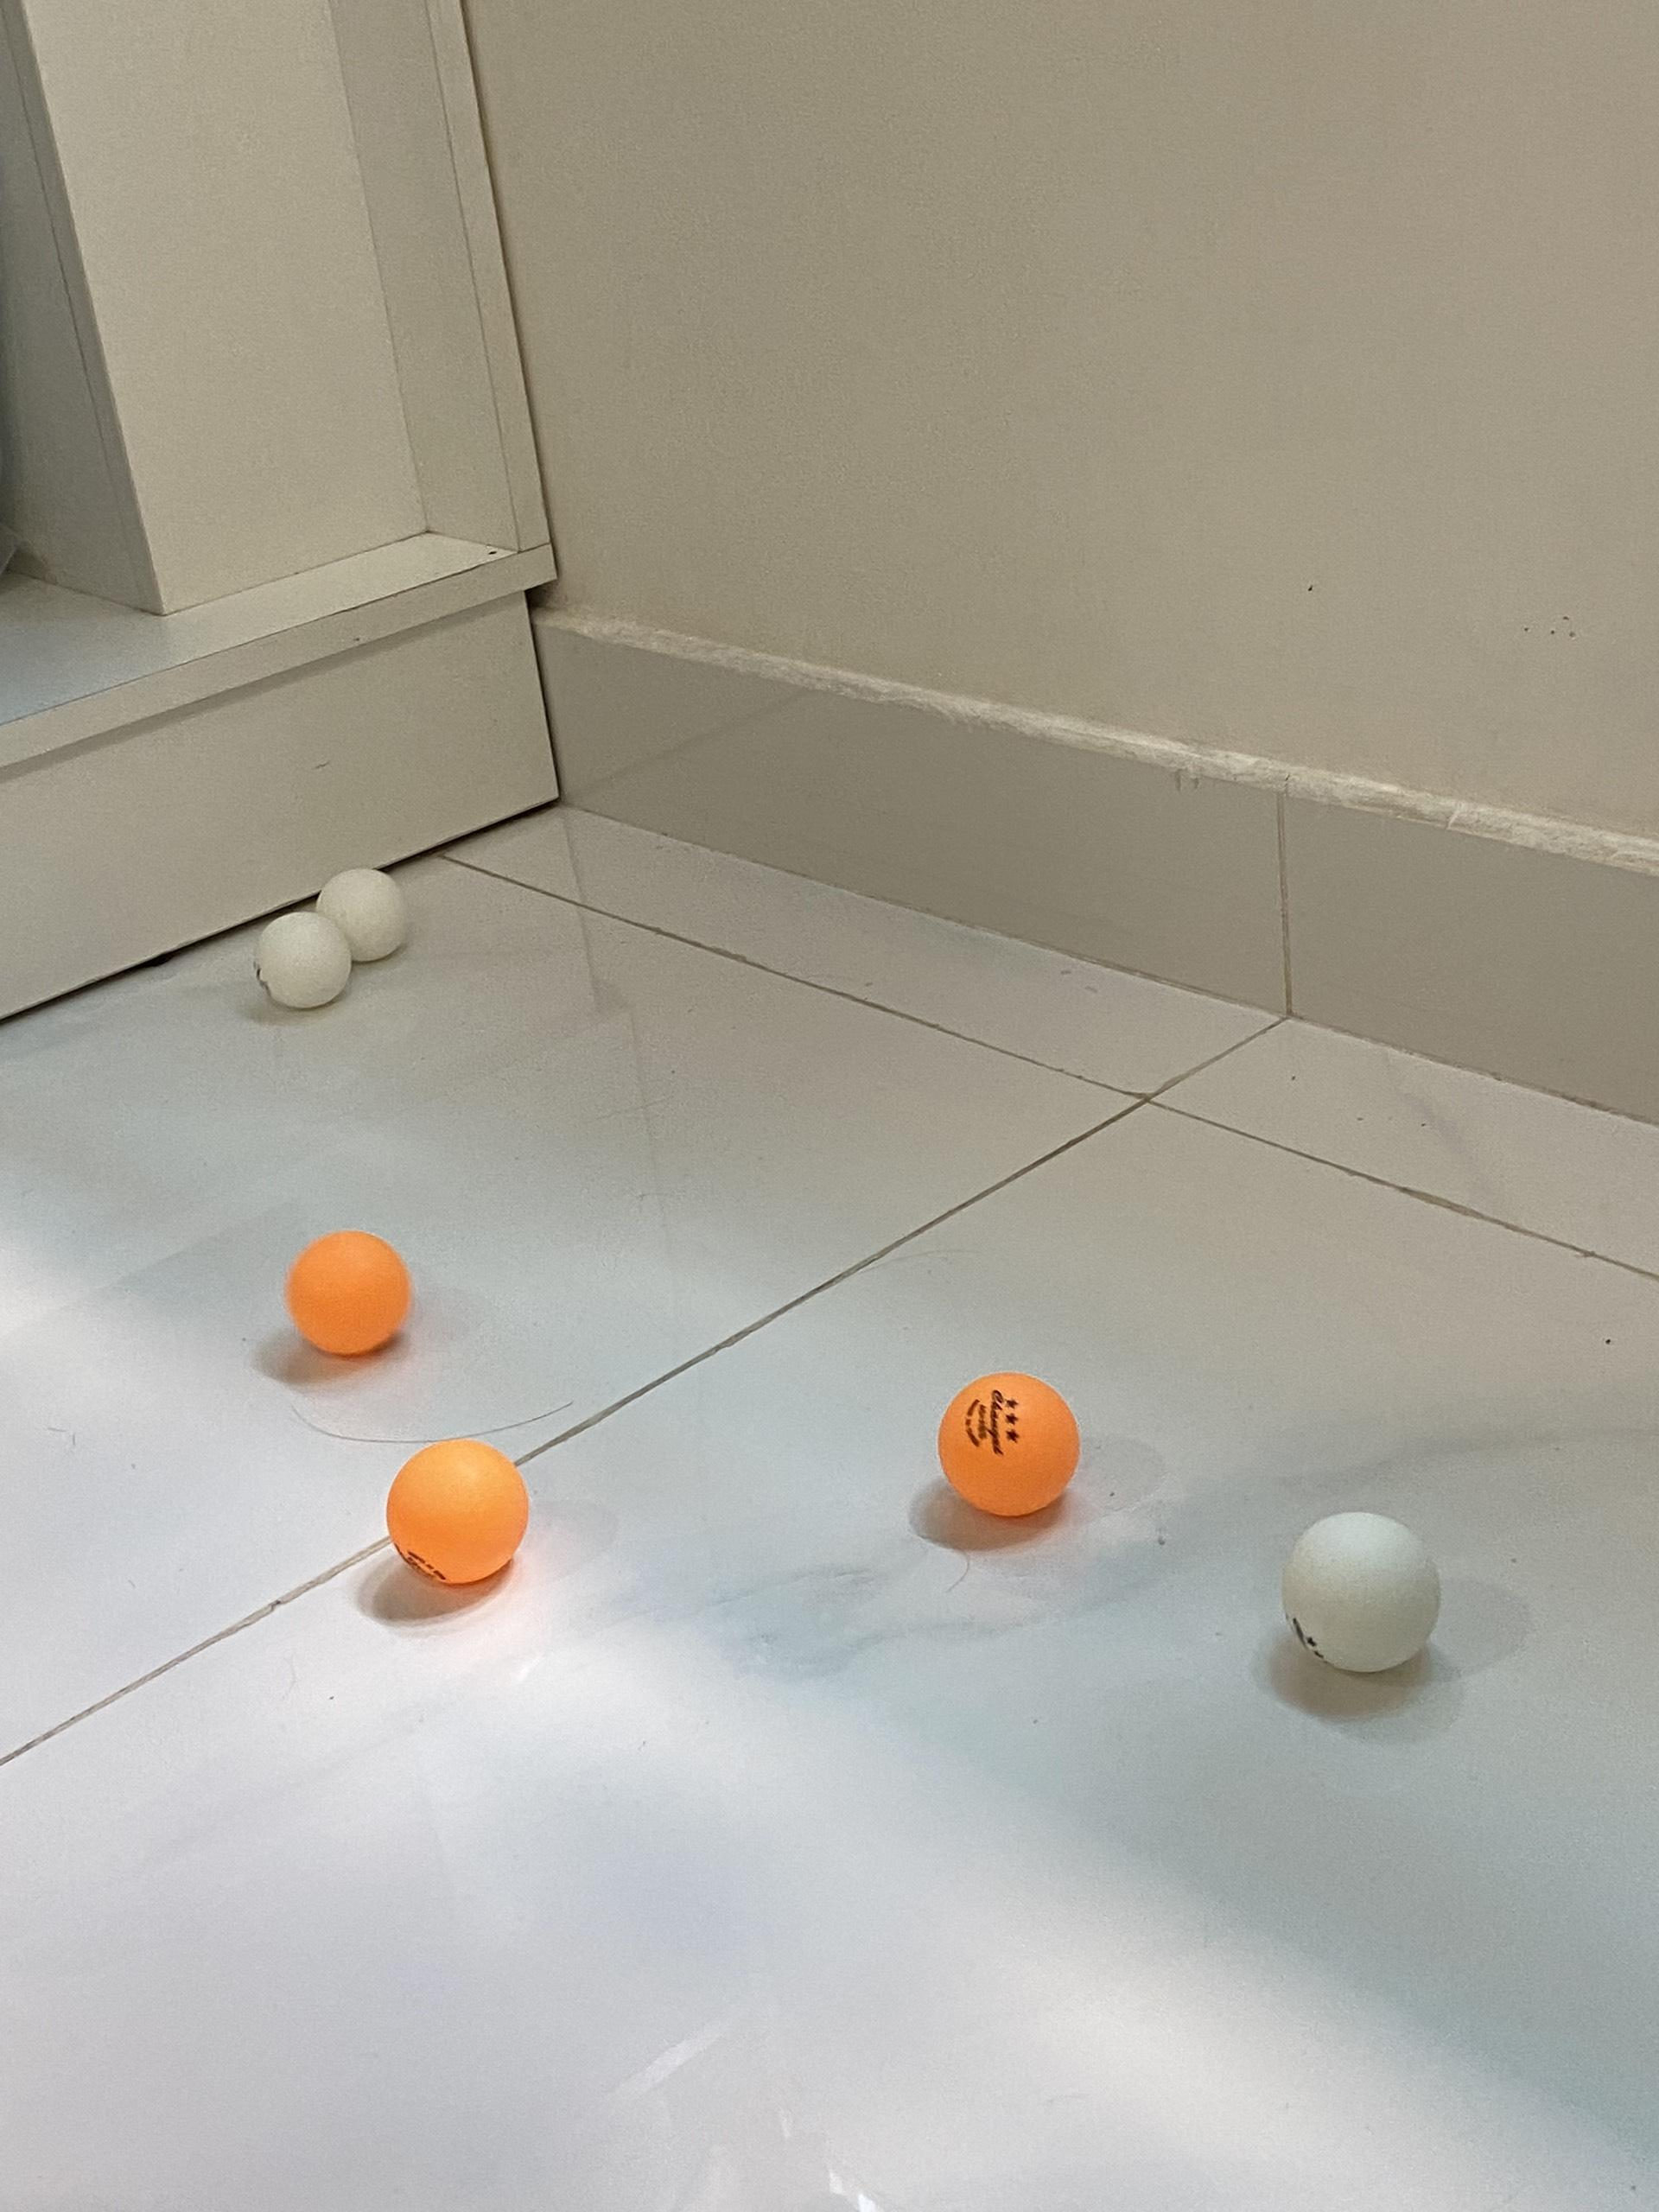oball: (385, 1432, 526, 1587), (939, 1371, 1080, 1515), (286, 1226, 415, 1353)
